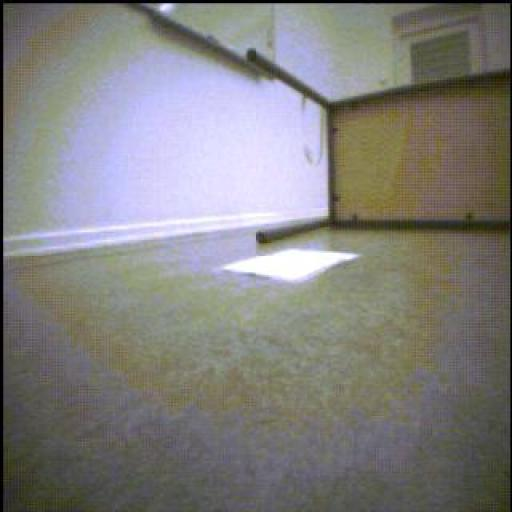Pad: (224, 251, 360, 283)
